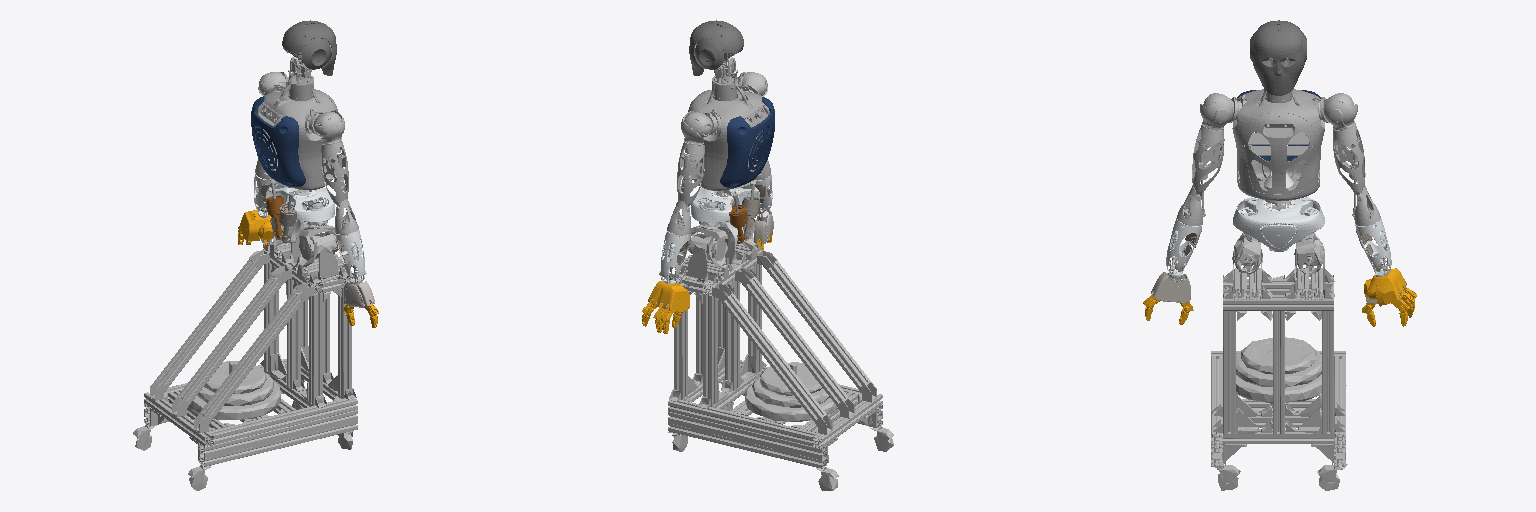
--- Facts derived from the render (not from the file) ---
Views: 3 orthographic renders of the robot side by side, from view 1: azimuth 30°, elevation 25°; view 2: azimuth 150°, elevation 25°; view 3: azimuth 270°, elevation 25°.
Model RH5v2 with 55 links and 54 joints (20 revolute, 34 fixed), rooted at world, posed all joints at 0.
Visible links, largest first — view 1: platform_Link, BodyYaw_Link, RH5v2_Root_Link, HeadYaw_Link, ARShoulder3_Link, HeadBase_Link, ARWristRoll_Link, ARWristFT_Link, ALWristFT_Link, ARElbow_Link, ARShoulder1_Link; view 2: platform_Link, BodyYaw_Link, RH5v2_Root_Link, HeadYaw_Link, ALShoulder3_Link, ALWristFT_Link, HeadBase_Link, ALWristRoll_Link, ALElbow_Link, ALShoulder1_Link; view 3: platform_Link, BodyYaw_Link, RH5v2_Root_Link, HeadYaw_Link, ALShoulder3_Link, ARShoulder3_Link, ALWristFT_Link, ARWristRoll_Link, ALWristRoll_Link, ARWristFT_Link, ALShoulder2_Link, ARShoulder2_Link (+2 smaller).
Boxes of the visible links, bbox=[...] form: platform_Link: bbox=[133, 193, 357, 490]; BodyYaw_Link: bbox=[251, 89, 337, 189]; RH5v2_Root_Link: bbox=[266, 179, 334, 243]; HeadYaw_Link: bbox=[282, 20, 336, 75]; ARShoulder3_Link: bbox=[321, 141, 348, 209]; HeadBase_Link: bbox=[278, 57, 318, 102]; ARWristRoll_Link: bbox=[335, 230, 364, 278]; ARWristFT_Link: bbox=[343, 281, 378, 314]; ALWristFT_Link: bbox=[238, 210, 271, 240]; ARElbow_Link: bbox=[335, 199, 358, 235]; ARShoulder1_Link: bbox=[311, 112, 341, 136]; platform_Link: bbox=[668, 194, 893, 490]; BodyYaw_Link: bbox=[688, 90, 774, 190]; RH5v2_Root_Link: bbox=[691, 180, 759, 243]; HeadYaw_Link: bbox=[689, 20, 743, 75]; ALShoulder3_Link: bbox=[677, 141, 704, 209]; ALWristFT_Link: bbox=[642, 281, 689, 319]; HeadBase_Link: bbox=[707, 58, 748, 103]; ALWristRoll_Link: bbox=[661, 231, 690, 279]; ALElbow_Link: bbox=[667, 200, 690, 236]; ALShoulder1_Link: bbox=[684, 112, 714, 137]; platform_Link: bbox=[1211, 211, 1347, 490]; BodyYaw_Link: bbox=[1232, 89, 1324, 200]; RH5v2_Root_Link: bbox=[1233, 197, 1324, 251]; HeadYaw_Link: bbox=[1250, 20, 1306, 95]; ALShoulder3_Link: bbox=[1333, 123, 1365, 212]; ARShoulder3_Link: bbox=[1192, 124, 1224, 212]; ALWristFT_Link: bbox=[1367, 268, 1415, 309]; ARWristRoll_Link: bbox=[1166, 218, 1202, 271]; ALWristRoll_Link: bbox=[1355, 219, 1391, 271]; ARWristFT_Link: bbox=[1144, 272, 1193, 310]; ALShoulder2_Link: bbox=[1324, 101, 1357, 129]; ARShoulder2_Link: bbox=[1200, 101, 1232, 129].
Size in the robot's own frame: 0.823 by 1.02 by 1.87 metres.
108 mesh visuals loaded from 84 distinct referenced files (83 binary STL); not drawn: 1 (reference not matched to a file when rendering).

The robot description file, URDF, robot "RH5v2":
<?xml version="1.0" ?>
<robot name="RH5v2" version="1.0">
    <link name="world"/>
    <joint name="base_joint" type="fixed">
       <parent link="world"/>
       <child link="RH5v2_Root_Link"/>
       <origin rpy="0 0 0" xyz="0 0 0"/>
    </joint>

	<joint name="ALBase" type="fixed">
		<origin rpy="-6.2e-05 -0.23628 1.309002" xyz="-0.025162 0.126091 0.35059"/>
		<parent link="BodyYaw_Link"/>
		<child link="ALBase_Link"/>
	</joint>
	<link name="ALBase_Link">
		<inertial>
			<origin rpy="0.0 0.0 0.0" xyz="0.0079897 0.0 0.00019625"/>
			<mass value="1.1943"/>
			<inertia ixx="0.00089755" ixy="1.4484e-08" ixz="-2.6127e-07" iyy="0.00057565" iyz="-7.8027e-07" izz="0.00056347"/>
		</inertial>
		<visual name="ALBase_Link_Visual">
			<origin rpy="0.0 0.0 0.0" xyz="0.0 0.0 0.0"/>
			<geometry>
				<mesh filename="../meshes/ALBase_Link.stl"/>
			</geometry>
			<material name="">
				<color rgba="0.75294 0.75294 0.75294 1.0"/>
			</material>
		</visual>
	</link>
	<joint name="ALElbow" type="revolute">
		<origin rpy="0.0 0.0 0.0" xyz="0.0 0.001 0.3511"/>
		<axis xyz="1.0 0.0 0.0"/>
		<parent link="ALShoulder3_Link"/>
		<child link="ALElbow_Link"/>
		<limit effort="110.13" lower="-1.78" upper="0.01" velocity="7.075"/>
	</joint>
	<link name="ALElbow_Link">
		<inertial>
			<origin rpy="0.0 0.0 0.0" xyz="0.0 0.001127 0.080286"/>
			<mass value="0.63578"/>
			<inertia ixx="0.00050999" ixy="2.2297e-07" ixz="4.047e-07" iyy="0.00051633" iyz="-4.4233e-05" izz="0.00046537"/>
		</inertial>
		<visual name="ALElbow_Link_Visual">
			<origin rpy="0.0 0.0 0.0" xyz="0.0 0.0 0.0"/>
			<geometry>
				<mesh filename="../meshes/ALElbow_Link.stl"/>
			</geometry>
			<material name="">
				<color rgba="0.75294 0.75294 0.75294 1.0"/>
			</material>
		</visual>
	</link>
	<joint name="ALShoulder1" type="revolute">
		<origin rpy="3.1416 0.0 0.0" xyz="0.1076 0.0 0.0"/>
		<axis xyz="1.0 0.0 0.0"/>
		<parent link="ALBase_Link"/>
		<child link="ALShoulder1_Link"/>
		<limit effort="157.0" lower="-3.0543" upper="3.0543" velocity="3.6"/>
	</joint>
	<link name="ALShoulder1_Link">
		<inertial>
			<origin rpy="0.0 0.0 0.0" xyz="-0.0091569 0.0036464 -0.00016872"/>
			<mass value="1.602"/>
			<inertia ixx="0.0012117" ixy="-8.0704e-05" ixz="-3.528e-06" iyy="0.0015561" iyz="-2.6511e-06" izz="0.0010024"/>
		</inertial>
		<visual name="ALShoulder1_Link_Visual">
			<origin rpy="0.0 0.0 0.0" xyz="0.0 0.0 0.0"/>
			<geometry>
				<mesh filename="../meshes/ALShoulder1_Link.stl"/>
			</geometry>
			<material name="">
				<color rgba="0.75294 0.75294 0.75294 1.0"/>
			</material>
		</visual>
		<collision name="ALShoulder1_Link_Collision">
			<origin rpy="1.570796 -1.568017 0.0" xyz="-0.005334 -0.004665 -0.002299"/>
			<geometry>
				<sphere radius="0.059044141322374344"/>
			</geometry>
		</collision>
	</link>
	<joint name="ALShoulder2" type="revolute">
		<origin rpy="0.0 0.0 0.0" xyz="0.0 0.0 0.0"/>
		<axis xyz="0.0 1.0 0.0"/>
		<parent link="ALShoulder1_Link"/>
		<child link="ALShoulder2_Link"/>
		<limit effort="157.0" lower="-0.248" upper="1.845" velocity="3.6"/>
	</joint>
	<link name="ALShoulder2_Link">
		<inertial>
			<origin rpy="0.0 0.0 0.0" xyz="0.010763 0.020477 0.0278"/>
			<mass value="0.50849"/>
			<inertia ixx="0.0010465" ixy="0.00012061" ixz="5.4855e-05" iyy="0.00092568" iyz="0.00027501" izz="0.0010393"/>
		</inertial>
		<visual name="ALShoulder2_Link_Visual">
			<origin rpy="0.0 0.0 0.0" xyz="0.0 0.0 0.0"/>
			<geometry>
				<mesh filename="../meshes/ALShoulder2_Link.stl"/>
			</geometry>
			<material name="">
				<color rgba="0.75294 0.75294 0.75294 1.0"/>
			</material>
		</visual>
	</link>
	<joint name="ALShoulder3" type="revolute">
		<origin rpy="0.0 0.0 1.5707" xyz="0.0 0.0 0.0"/>
		<axis xyz="0.0 0.0 1.0"/>
		<parent link="ALShoulder2_Link"/>
		<child link="ALShoulder3_Link"/>
		<limit effort="28.0" lower="-3.0543" upper="3.0543" velocity="5.7"/>
	</joint>
	<link name="ALShoulder3_Link">
		<inertial>
			<origin rpy="0.0 0.0 0.0" xyz="0.0 0.0023269698080689164 0.12573969350370376"/>
			<mass value="1.234064594016641"/>
			<inertia ixx="0.003018389690136292" ixy="5.244535247714018e-07" ixz="-7.893331595881071e-07" iyy="0.0029498729569298384" iyz="8.820081543697286e-05" izz="0.0008757347333427459"/>
		</inertial>
		<visual name="ALShoulder3_Link_Visual">
			<origin rpy="0.0 0.0 0.0" xyz="0.0 0.0 0.0"/>
			<geometry>
				<mesh filename="../meshes/ALShoulder3_Link.stl"/>
			</geometry>
			<material name="">
				<color rgba="0.75294 0.75294 0.75294 1.0"/>
			</material>
		</visual>
		<visual name="ALElbowB11_Link_Visual">
			<origin rpy="-0.25319 0.0 0.0" xyz="0.0 -0.029 0.1391"/>
			<geometry>
				<mesh filename="../meshes/ALElbow_B11_Link.stl"/>
			</geometry>
			<material name="">
				<color rgba="0.75294 0.75294 0.75294 1.0"/>
			</material>
		</visual>
		<visual name="ALElbowAct_Link_Visual">
			<origin rpy="-0.25319 0.0 0.0" xyz="0.0 0.045001 0.425102"/>
			<geometry>
				<mesh filename="../meshes/ALElbow_Act_Link.stl"/>
			</geometry>
			<material name="">
				<color rgba="0.75294 0.75294 0.75294 1.0"/>
			</material>
		</visual>
		<collision name="ALShoulder3_Link_Collision">
			<origin rpy="3.071603 0.037077 0.479525" xyz="0.000897 0.015259 0.247292"/>
			<geometry>
				<cylinder length="0.37510071270897083" radius="0.04989704605643945"/>
			</geometry>
		</collision>
	</link>
	<joint name="ALWristFT" type="fixed">
		<origin rpy="0.0 0.0 1.5708" xyz="0.0 0.0 0.042748"/>
		<parent link="ALWristYaw_Link"/>
		<child link="ALWristFT_Link"/>
	</joint>
	<link name="ALWristFT_Link">
		<inertial>
			<origin rpy="0.0 0.0 0.0" xyz="-0.0021257506868597852 0.0025643917283102577 0.020104290293592838"/>
			<mass value="2.323616875904794"/>
			<inertia ixx="0.0016940457940833257" ixy="5.327619969251473e-05" ixz="3.918511751113743e-06" iyy="0.0009331975295453429" iyz="-2.582742097403667e-05" izz="0.001329614684356007"/>
		</inertial>
		<visual name="ALWristFT_Link_Visual">
			<origin rpy="0.0 0.0 0.0" xyz="0.0 0.0 0.0"/>
			<geometry>
				<mesh filename="../meshes/ALWristFT_Link.stl"/>
			</geometry>
			<material name="">
				<color rgba="0.698039215686274 0.698039215686274 0.698039215686274 1.0"/>
			</material>
		</visual>
		<visual name="GLBase_Visual">
			<origin rpy="-3.141592 0.0 0.0" xyz="0.0 0.0 0.0"/>
			<geometry>
				<mesh filename="../meshes/GripperLeft_BaseFrame.stl" scale="1.0 1.0 1.0"/>
			</geometry>
			<material name="">
				<color rgba="0.94118 0.67451 0.11765 1.0"/>
			</material>
		</visual>
		<visual name="GLF1Base_Visual">
			<origin rpy="1.7921 0.1664 -1.533593" xyz="-0.013458 -0.038971 0.065211"/>
			<geometry>
				<mesh filename="../meshes/Finger_Base_Frame.stl"/>
			</geometry>
			<material name="">
				<color rgba="0.79216 0.81961 0.93333 1.0"/>
			</material>
		</visual>
		<visual name="GLF1ProximalBar_Visual">
			<origin rpy="0.6783 0.1664 -1.533593" xyz="-0.053439 -0.029588 0.079319"/>
			<geometry>
				<mesh filename="../meshes/F_ProximalBar_Frame.stl"/>
			</geometry>
			<material name="">
				<color rgba="0.94118 0.67451 0.11765 1.0"/>
			</material>
		</visual>
		<visual name="GLF2Base_Visual">
			<origin rpy="1.7907 -0.12478 -1.598593" xyz="-0.014454 0.012122 0.06971"/>
			<geometry>
				<mesh filename="../meshes/Finger_Base_Frame.stl"/>
			</geometry>
			<material name="">
				<color rgba="0.79216 0.81961 0.93333 1.0"/>
			</material>
		</visual>
		<visual name="GLF2ProximalBar_Visual">
			<origin rpy="0.6769 -0.12478 -1.598593" xyz="-0.053624 0.02768 0.080161"/>
			<geometry>
				<mesh filename="../meshes/F_ProximalBar_Frame.stl"/>
			</geometry>
			<material name="">
				<color rgba="0.94118 0.67451 0.11765 1.0"/>
			</material>
		</visual>
		<visual name="GLF3Base_Visual">
			<origin rpy="1.7907 -0.124785 -1.598609" xyz="-0.013488 0.046837 0.065354"/>
			<geometry>
				<mesh filename="../meshes/Finger_Base_Frame.stl"/>
			</geometry>
			<material name="">
				<color rgba="0.79216 0.81961 0.93333 1.0"/>
			</material>
		</visual>
		<visual name="GLF3ProximalBar_Visual">
			<origin rpy="0.6769 -0.124785 -1.598609" xyz="-0.052657 0.062395 0.075805"/>
			<geometry>
				<mesh filename="../meshes/F_ProximalBar_Frame.stl"/>
			</geometry>
			<material name="">
				<color rgba="0.94118 0.67451 0.11765 1.0"/>
			</material>
		</visual>
	</link>
	<joint name="ALWristPitch" type="revolute">
		<origin rpy="-3.141592 -1.5707 0.0" xyz="0.173 0.0 0.0"/>
		<axis xyz="1.0 0.0 0.0"/>
		<parent link="ALWristRoll_Link"/>
		<child link="ALWristPitch_Link"/>
		<limit effort="43.135" lower="-0.7" upper="1.57" velocity="9.255"/>
	</joint>
	<link name="ALWristPitch_Link">
		<inertial>
			<origin rpy="0.0 0.0 0.0" xyz="0.0 0.0 0.0"/>
			<mass value="0.0303458029555441"/>
			<inertia ixx="1.0000000011242503e-05" ixy="0.0" ixz="1.3686128944734017e-10" iyy="1.0143779057796202e-05" iyz="1.3756897885334319e-10" izz="1.1666089364158581e-05"/>
		</inertial>
		<visual name="ALWristPitch_Link_Visual">
			<origin rpy="0.0 0.0 0.0" xyz="0.0 0.0 0.0"/>
			<geometry>
				<mesh filename="../meshes/ALWristPitch_Link.stl"/>
			</geometry>
			<material name="">
				<color rgba="0.647058823529412 0.619607843137255 0.588235294117647 1.0"/>
			</material>
		</visual>
	</link>
	<joint name="ALWristRoll" type="revolute">
		<origin rpy="3.1416 -1.5708 0.0" xyz="0.0 0.0 0.122"/>
		<axis xyz="1.0 0.0 0.0"/>
		<parent link="ALElbow_Link"/>
		<child link="ALWristRoll_Link"/>
		<limit effort="28.0" lower="-3.0543" upper="3.0543" velocity="5.7"/>
	</joint>
	<link name="ALWristRoll_Link">
		<inertial>
			<origin rpy="0.0 0.0 0.0" xyz="0.021100858801034905 0.020750070314189212 -0.022279202338594394"/>
			<mass value="0.7033703261930893"/>
			<inertia ixx="0.0005821306127387027" ixy="-2.1540995274711544e-05" ixz="8.844208549962065e-08" iyy="0.0014430712704364768" iyz="-3.4237658176659823e-07" izz="0.0014292089005863153"/>
		</inertial>
		<visual name="ALWristRoot_Link_Visual">
			<origin rpy="-3.141592 -1.5707 0.0" xyz="0.173 0.0 0.0"/>
			<geometry>
				<mesh filename="../meshes/ALWrist_Root_Link.stl"/>
			</geometry>
			<material name="">
				<color rgba="0.64706 0.61961 0.58824 1.0"/>
			</material>
		</visual>
		<visual name="ALWristBL1_Link_Visual">
			<origin rpy="0.259193 -1.5707 0.0" xyz="0.141001 -0.011 0.015503"/>
			<geometry>
				<mesh filename="../meshes/ALWrist_BL1_Link.stl"/>
			</geometry>
			<material name="">
				<color rgba="0.89804 0.91765 0.92941 1.0"/>
			</material>
		</visual>
		<visual name="ALWristBR1_Link_Visual">
			<origin rpy="0.259193 -1.5707 0.0" xyz="0.140999 -0.011 -0.015497"/>
			<geometry>
				<mesh filename="../meshes/ALWrist_BR1_Link.stl"/>
			</geometry>
			<material name="">
				<color rgba="0.89804 0.91765 0.92941 1.0"/>
			</material>
		</visual>
		<visual name="ALWristAL1_Link_Visual">
			<origin rpy="-1.553092 -1.5707 0.0" xyz="-0.004999 0.034 0.015517"/>
			<geometry>
				<mesh filename="../meshes/ALWrist_AL1_Link.stl"/>
			</geometry>
			<material name="">
				<color rgba="0.898039215686275 0.917647058823529 0.929411764705882 1.0"/>
			</material>
		</visual>
		<visual name="ALWristAR1_Link_Visual">
			<origin rpy="-1.553092 -1.5707 0.0" xyz="-0.005002 0.034 -0.015483"/>
			<geometry>
				<mesh filename="../meshes/ALWrist_AR1_Link.stl"/>
			</geometry>
			<material name="">
				<color rgba="0.89804 0.91765 0.92941 1.0"/>
			</material>
		</visual>
		<visual name="ALWristActL_Link_Visual">
			<origin rpy="-3.123892 -1.5707 0.0" xyz="0.12844 0.036363 0.015504"/>
			<geometry>
				<mesh filename="../meshes/ALWrist_ActL_Link.stl"/>
			</geometry>
			<material name="">
				<color rgba="0.77647 0.75686 0.73725 1.0"/>
			</material>
		</visual>
		<visual name="ALWristActR_Link_Visual">
			<origin rpy="-3.123892 -1.5707 0.0" xyz="0.128437 0.036363 -0.015496"/>
			<geometry>
				<mesh filename="../meshes/ALWrist_ActR_Link.stl"/>
			</geometry>
			<material name="">
				<color rgba="0.776470588235294 0.756862745098039 0.737254901960784 1.0"/>
			</material>
		</visual>
		<visual name="ALWristBase_Link_Visual">
			<origin rpy="3.141592 0.0001 0.0" xyz="0.005 0.0 0.0"/>
			<geometry>
				<mesh filename="../meshes/ALWrist_Base_Link.stl"/>
			</geometry>
			<material name="">
				<color rgba="0.898039215686275 0.917647058823529 0.929411764705882 1.0"/>
			</material>
		</visual>
		<collision name="ALWristRoll_Link_Collision">
			<origin rpy="1.529155 1.46726 -1.538407" xyz="0.081951 0.005319 -0.000273"/>
			<geometry>
				<cylinder length="0.19892359808020985" radius="0.051451062143852824"/>
			</geometry>
		</collision>
	</link>
	<joint name="ALWristYaw" type="revolute">
		<origin rpy="0.0 0.0 0.0" xyz="0.0 0.0 0.0"/>
		<axis xyz="0.0 1.0 0.0"/>
		<parent link="ALWristPitch_Link"/>
		<child link="ALWristYaw_Link"/>
		<limit effort="44.635" lower="-0.475" upper="0.585" velocity="7.725"/>
	</joint>
	<link name="ALWristYaw_Link">
		<inertial>
			<origin rpy="0.0 0.0 0.0" xyz="-0.0006783379600145488 -0.004595821715438101 0.013428986627659206"/>
			<mass value="0.10750158088268805"/>
			<inertia ixx="9.569999289025244e-05" ixy="3.991373626540703e-09" ixz="8.851013257069966e-10" iyy="9.189962271073085e-05" iyz="-1.4768282982305257e-06" izz="9.710214057827659e-05"/>
		</inertial>
		<visual name="ALWristYaw_Link_Visual">
			<origin rpy="0.0 0.0 0.0" xyz="0.0 0.0 0.0"/>
			<geometry>
				<mesh filename="../meshes/ALWristYaw_Link.stl"/>
			</geometry>
			<material name="">
				<color rgba="0.898039215686275 0.917647058823529 0.929411764705882 1.0"/>
			</material>
		</visual>
		<visual name="ALWristBL4_Link_Visual">
			<origin rpy="2.9998 0.0 0.0" xyz="0.027 -0.03 0.0"/>
			<geometry>
				<mesh filename="../meshes/ALWrist_BL4_Link.stl"/>
			</geometry>
			<material name="">
				<color rgba="0.776470588235294 0.756862745098039 0.737254901960784 1.0"/>
			</material>
		</visual>
		<visual name="ALWristBR4_Link_Visual">
			<origin rpy="-2.9998 0.0 3.141585" xyz="-0.027 -0.03 0.0"/>
			<geometry>
				<mesh filename="../meshes/ALWrist_BR4_Link.stl"/>
			</geometry>
			<material name="">
				<color rgba="0.647058823529412 0.619607843137255 0.588235294117647 1.0"/>
			</material>
		</visual>
		<visual name="ALWristBL3_Link_Visual">
			<origin rpy="2.999779 0.017082 -0.002439" xyz="0.027 -0.03 0.0"/>
			<geometry>
				<mesh filename="../meshes/ALWrist_BL3_Link.stl"/>
			</geometry>
			<material name="">
				<color rgba="0.898039215686275 0.917647058823529 0.929411764705882 1.0"/>
			</material>
		</visual>
		<visual name="ALWristBR3_Link_Visual">
			<origin rpy="-2.999779 0.017082 -3.139161" xyz="-0.027 -0.03 0.0"/>
			<geometry>
				<mesh filename="../meshes/ALWrist_BR3_Link.stl"/>
			</geometry>
			<material name="">
				<color rgba="0.529411764705882 0.549019607843137 0.549019607843137 1.0"/>
			</material>
		</visual>
		<visual name="ALWristBL2_Link_Visual">
			<origin rpy="2.999779 0.017082 -0.002439" xyz="0.026223 -0.036361 -0.04456"/>
			<geometry>
				<mesh filename="../meshes/ALWrist_BL2_Link.stl"/>
			</geometry>
			<material name="">
				<color rgba="0.647058823529412 0.619607843137255 0.588235294117647 1.0"/>
			</material>
		</visual>
		<visual name="ALWristBR2_Link_Visual">
			<origin rpy="-2.999779 0.017082 -3.139161" xyz="-0.026223 -0.036361 -0.04456"/>
			<geometry>
				<mesh filename="../meshes/ALWrist_BR2_Link.stl"/>
			</geometry>
			<material name="">
				<color rgba="0.647058823529412 0.619607843137255 0.588235294117647 1.0"/>
			</material>
		</visual>
	</link>
	<joint name="ARBase" type="fixed">
		<origin rpy="6e-05 -0.236287 -1.308995" xyz="-0.025162 -0.126089 0.35059"/>
		<parent link="BodyYaw_Link"/>
		<child link="ARBase_Link"/>
	</joint>
	<link name="ARBase_Link">
		<inertial>
			<origin rpy="0.0 0.0 0.0" xyz="0.00799 0.0 0.000196"/>
			<mass value="1.194300000000001"/>
			<inertia ixx="0.00089755" ixy="-1.4484e-08" ixz="-2.6127e-07" iyy="0.00057565" iyz="7.8027e-07" izz="0.00056347"/>
		</inertial>
		<visual name="ARBase_Link_Visual">
			<origin rpy="3.141593 0.0 0.0" xyz="0.0 0.0 0.0"/>
			<geometry>
				<mesh filename="../meshes/ARBase_Link.stl" scale="1.0 1.0 1.0"/>
			</geometry>
			<material name="">
				<color rgba="0.75294 0.75294 0.75294 1.0"/>
			</material>
		</visual>
	</link>
	<joint name="ARElbow" type="revolute">
		<origin rpy="-3.141592 0.0 -3.141592" xyz="0.0 0.001 -0.3511"/>
		<axis xyz="1.0 0.0 0.0"/>
		<parent link="ARShoulder3_Link"/>
		<child link="ARElbow_Link"/>
		<limit effort="110.13" lower="-1.78" upper="0.01" velocity="7.075"/>
	</joint>
	<link name="ARElbow_Link">
		<inertial>
			<origin rpy="0.0 0.0 0.0" xyz="0.0 0.001127 0.080286"/>
			<mass value="0.6357799999999997"/>
			<inertia ixx="0.0005099900001544764" ixy="-2.2297207206594354e-07" ixz="-4.0468474586715554e-07" iyy="0.0005163300270204655" iyz="-4.423298448630883e-05" izz="0.00046536997282505774"/>
		</inertial>
		<visual name="ARElbow_Link_Visual">
			<origin rpy="0.0 0.0 3.141593" xyz="0.0 0.0 0.0"/>
			<geometry>
				<mesh filename="../meshes/ARElbow_Link.stl" scale="1.0 1.0 1.0"/>
			</geometry>
			<material name="">
				<color rgba="0.75294 0.75294 0.75294 1.0"/>
			</material>
		</visual>
	</link>
	<joint name="ARShoulder1" type="revolute">
		<origin rpy="-3.141585 0.0 3.141593" xyz="0.1076 0.0 0.0"/>
		<axis xyz="1.0 0.0 0.0"/>
		<parent link="ARBase_Link"/>
		<child link="ARShoulder1_Link"/>
		<limit effort="157.0" lower="-3.0543" upper="3.0543" velocity="3.6"/>
	</joint>
	<link name="ARShoulder1_Link">
		<inertial>
			<origin rpy="0.0 0.0 0.0" xyz="0.009157 0.003646 -0.000169"/>
			<mass value="1.6019999999999996"/>
			<inertia ixx="0.0012116999440866811" ixy="8.070387961256474e-05" ixz="3.5280257083975037e-06" iyy="0.001556100057542011" iyz="-2.650928692723903e-06" izz="0.0010023999983713062"/>
		</inertial>
		<visual name="ARShoulder1_Link_Visual">
			<origin rpy="0.0 0.0 3.141593" xyz="0.0 0.0 0.0"/>
			<geometry>
				<mesh filename="../meshes/ARShoulder1_Link.stl" scale="1.0 1.0 1.0"/>
			</geometry>
			<material name="">
				<color rgba="0.75294 0.75294 0.75294 1.0"/>
			</material>
		</visual>
		<collision name="ARShoulder1_Link_Collision">
			<origin rpy="1.570864 -1.568017 3.141524" xyz="0.005334 -0.004665 -0.002299"/>
			<geometry>
				<sphere radius="0.059044145081229044"/>
			</geometry>
		</collision>
	</link>
	<joint name="ARShoulder2" type="revolute">
		<origin rpy="0.0 0.0 -3.141592" xyz="0.0 0.0 0.0"/>
		<axis xyz="0.0 1.0 0.0"/>
		<parent link="ARShoulder1_Link"/>
		<child link="ARShoulder2_Link"/>
		<limit effort="157.0" lower="-0.248" upper="1.845" velocity="3.6"/>
	</joint>
	<link name="ARShoulder2_Link">
		<inertial>
			<origin rpy="0.0 0.0 0.0" xyz="0.010763 -0.020477 0.0278"/>
			<mass value="0.5084917431461261"/>
			<inertia ixx="0.0010464999259024192" ixy="-0.00012061005396444852" ixz="5.485487847357631e-05" iyy="0.0009256802430528081" iyz="-0.0002750100517516733" izz="0.0010392998310447714"/>
		</inertial>
		<visual name="ARShoulder2_Link_Visual">
			<origin rpy="0.0 0.0 0.0" xyz="0.0 0.0 0.0"/>
			<geometry>
				<mesh filename="../meshes/ARShoulder2_Link.stl" scale="1.0 1.0 1.0"/>
			</geometry>
			<material name="">
				<color rgba="0.75294 0.75294 0.75294 1.0"/>
			</material>
		</visual>
	</link>
	<joint name="ARShoulder3" type="revolute">
		<origin rpy="-3.141593 1e-06 -1.5707" xyz="0.0 0.0 0.0"/>
		<axis xyz="0.0 0.0 1.0"/>
		<parent link="ARShoulder2_Link"/>
		<child link="ARShoulder3_Link"/>
		<limit effort="28.0" lower="-3.0543" upper="3.0543" velocity="5.7"/>
	</joint>
	<link name="ARShoulder3_Link">
		<inertial>
			<origin rpy="0.0 0.0 0.0" xyz="0.0 0.002327302974746533 -0.07663324824532092"/>
			<mass value="1.2342237960002198"/>
			<inertia ixx="0.00301838969045024" ixy="4.912221472850882e-07" ixz="7.838080878027623e-07" iyy="0.0029500093958173892" iyz="-6.7939016136265e-05" izz="0.0008755982941412455"/>
		</inertial>
		<visual name="ARShoulder3_Link_Visual">
			<origin rpy="3.141593 0.0 0.0" xyz="0.0 0.0 0.0"/>
			<geometry>
				<mesh filename="../meshes/ARShoulder3_Link.stl" scale="1.0 1.0 1.0"/>
			</geometry>
			<material name="">
				<color rgba="0.75294 0.75294 0.75294 1.0"/>
			</material>
		</visual>
		<visual name="ARElbowB11_Link_Visual">
			<origin rpy="2.888403 0.0 -3.141592" xyz="0.0 -0.029 -0.1391"/>
			<geometry>
				<mesh filename="../meshes/ARElbow_B11_Link.stl" scale="1.0 1.0 1.0"/>
			</geometry>
			<material name="">
				<color rgba="0.75294 0.75294 0.75294 1.0"/>
			</material>
		</visual>
		<visual name="ARElbowAct_Link_Visual">
			<origin rpy="2.888403 0.0 3.141592" xyz="0.0 0.045001 -0.425102"/>
			<geometry>
				<mesh filename="../meshes/ARElbow_Act_Link.stl" scale="1.0 1.0 1.0"/>
			</geometry>
			<material name="">
				<color rgba="0.75294 0.75294 0.75294 1.0"/>
			</material>
		</visual>
		<collision name="ARShoulder3_Link_Collision">
			<origin rpy="0.06999 -0.037077 0.479526" xyz="0.000897 0.015259 -0.247292"/>
			<geometry>
				<cylinder length="0.37510067633392874" radius="0.04989704634130358"/>
			</geometry>
		</collision>
	</link>
	<joint name="ARWristFT" type="fixed">
		<origin rpy="0.0 0.0 -1.5708" xyz="0.0 0.0 0.042748"/>
		<parent link="ARWristYaw_Link"/>
		<child link="ARWristFT_Link"/>
	</joint>
	<link name="ARWristFT_Link">
		<inertial>
			<origin rpy="0.0 0.0 0.0" xyz="-0.007384643000911799 -0.007810180244104391 0.022625684875546382"/>
			<mass value="0.6716364094742334"/>
			<inertia ixx="0.0002471607631168521" ixy="-1.2947206607771007e-07" ixz="-7.211116735608899e-07" iyy="0.0004114610354509037" iyz="-3.1627128739890997e-06" izz="0.0003044465748229154"/>
		</inertial>
		<visual name="ARWristFT_Link_Visual">
			<origin rpy="0.0 0.0 3.141593" xyz="0.0 0.0 0.0"/>
			<geometry>
				<mesh filename="../meshes/ARWristFT_Link.stl" scale="1.0 1.0 1.0"/>
			</geometry>
			<material name="">
				<color rgba="0.698039215686274 0.698039215686274 0.698039215686274 1.0"/>
			</material>
		</visual>
		<visual name="GRBase_Visual">
			<origin rpy="0.0 0.0 3.141593" xyz="0.0 0.0 0.0"/>
			<geometry>
				<mesh filename="../meshes/2FGripper_BaseFrame.stl"/>
			</geometry>
			<material name="">
				<color rgba="0.77647 0.75686 0.73725 1.0"/>
			</material>
		</visual>
		<visual name="GRF1Base_Visual">
			<origin rpy="1.789 0.0 1.570793" xyz="0.021725 0.013001 0.064903"/>
			<geometry>
				<mesh filename="../meshes/Finger_Base_Frame.stl"/>
			</geometry>
			<material name="">
				<color rgba="0.79216 0.81961 0.93333 1.0"/>
			</material>
		</visual>
		<visual name="GRF1ProximalBar_Visual">
			<origin rpy="0.6752 0.0 1.570793" xyz="0.061291 0.0 0.07714"/>
			<geometry>
				<mesh filename="../meshes/F_ProximalBar_Frame.stl"/>
			</geometry>
			<material name="">
				<color rgba="0.94118 0.67451 0.11765 1.0"/>
			</material>
		</visual>
		<visual name="GRF2Base_Visual">
			<origin rpy="1.789 0.0 -1.570793" xyz="-0.02175 -0.012996 0.064903"/>
			<geometry>
				<mesh filename="../meshes/Finger_Base_Frame.stl"/>
			</geometry>
			<material name="">
				<color rgba="0.79216 0.81961 0.93333 1.0"/>
			</material>
		</visual>
		<visual name="GRF2ProximalBar_Visual">
			<origin rpy="0.6752 0.0 -1.570793" xyz="-0.061316 0.0 0.07714"/>
			<geometry>
				<mesh filename="../meshes/F_ProximalBar_Frame.stl"/>
			</geometry>
			<material name="">
				<color rgba="0.94118 0.67451 0.11765 1.0"/>
			</material>
		</visual>
	</link>
	<joint name="ARWristPitch" type="revolute">
		<origin rpy="-3.141592 -1.5707 3.141592" xyz="-0.173 0.0 0.0"/>
		<axis xyz="1.0 0.0 0.0"/>
		<parent link="ARWristRoll_Link"/>
		<child link="ARWristPitch_Link"/>
		<limit effort="43.135" lower="-0.7" upper="1.57" velocity="9.255"/>
	</joint>
	<link name="ARWristPitch_Link">
		<inertial>
			<origin rpy="0.0 0.0 0.0" xyz="0.0 0.0 0.0"/>
			<mass value="0.030345802955544107"/>
			<inertia ixx="1.0000000011242505e-05" ixy="0.0" ixz="1.3686128944732079e-10" iyy="1.0143779057796206e-05" iyz="-1.3756897885220354e-10" izz="1.1666089364158585e-05"/>
		</inertial>
		<visual name="ARWristPitch_Link_Visual">
			<origin rpy="0.0 0.0 0.0" xyz="0.0 0.0 0.0"/>
			<geometry>
				<mesh filename="../meshes/ARWristPitch_Link.stl" scale="1.0 1.0 1.0"/>
			</geometry>
			<material name="">
				<color rgba="0.647058823529412 0.619607843137255 0.588235294117647 1.0"/>
			</material>
		</visual>
	</link>
	<joint name="ARWristRoll" type="revolute">
		<origin rpy="0.08344 1.570793 -3.058159" xyz="0.0 0.0 0.122"/>
		<axis xyz="1.0 0.0 0.0"/>
		<parent link="ARElbow_Link"/>
		<child link="ARWristRoll_Link"/>
		<limit effort="28.0" lower="-3.0543" upper="3.0543" velocity="5.7"/>
	</joint>
	<link name="ARWristRoll_Link">
		<inertial>
			<origin rpy="0.0 0.0 0.0" xyz="0.021101834391639287 0.01863898496767983 -0.022279585222716346"/>
			<mass value="0.7033939349158417"/>
			<inertia ixx="0.000591630305461663" ixy="1.7607232597827022e-05" ixz="4.3997628888334523e-07" iyy="0.0014425181855461675" iyz="1.2878607337505122e-06" izz="0.0014202622927536614"/>
		</inertial>
		<visual name="ARWristRoot_Link_Visual">
			<origin rpy="-0.01038 -1.5707 -3.131212" xyz="-0.173 0.0 0.0"/>
			<geometry>
				<mesh filename="../meshes/ARWrist_Root_Link.stl" scale="1.0 1.0 1.0"/>
			</geometry>
			<material name="">
				<color rgba="0.64706 0.61961 0.58824 1.0"/>
			</material>
		</visual>
		<visual name="ARWristBase_Link_Visual">
			<origin rpy="1e-06 0.0001 -3.141592" xyz="-0.005 0.0 0.0"/>
			<geometry>
				<mesh filename="../meshes/ARWrist_Base_Link.stl" scale="1.0 1.0 1.0"/>
			</geometry>
			<material name="">
				<color rgba="0.898039215686275 0.917647058823529 0.929411764705882 1.0"/>
			</material>
		</visual>
		<visual name="ARWristBL1_Link_Visual">
			<origin rpy="0.262788 1.5707 0.003596" xyz="-0.140999 -0.011 -0.015497"/>
			<geometry>
				<mesh filename="../meshes/ARWrist_BR1_Link.stl" scale="1.0 1.0 1.0"/>
			</geometry>
			<material name="">
				<color rgba="0.89804 0.91765 0.92941 1.0"/>
			</material>
		</visual>
		<visual name="ARWristBR1_Link_Visual">
			<origin rpy="0.262788 1.5707 0.003596" xyz="-0.141001 -0.011 0.015503"/>
			<geometry>
				<mesh filename="../meshes/ARWrist_BL1_Link.stl" scale="1.0 1.0 1.0"/>
			</geometry>
			<material name="">
				<color rgba="0.89804 0.91765 0.92941 1.0"/>
			</material>
		</visual>
		<visual name="ARWristAL1_Link_Visual">
			<origin rpy="-1.59202 -1.5707 -3.138073" xyz="0.005001 0.034 -0.015483"/>
			<geometry>
				<mesh filename="../meshes/ARWrist_AR1_Link.stl" scale="1.0 1.0 1.0"/>
			</geometry>
			<material name="">
				<color rgba="0.89804 0.91765 0.92941 1.0"/>
			</material>
		</visual>
		<visual name="ARWristAR1_Link_Visual">
			<origin rpy="-1.59202 -1.5707 -3.138073" xyz="0.004999 0.034 0.015517"/>
			<geometry>
				<mesh filename="../meshes/ARWrist_AL1_Link.stl" scale="1.0 1.0 1.0"/>
			</geometry>
			<material name="">
				<color rgba="0.898039215686275 0.917647058823529 0.929411764705882 1.0"/>
			</material>
		</visual>
		<visual name="ARWristActL_Link_Visual">
			<origin rpy="-3.116778 1.5707 0.007115" xyz="-0.128438 0.036363 -0.015496"/>
			<geometry>
				<mesh filename="../meshes/ARWrist_ActR_Link.stl" scale="1.0 1.0 1.0"/>
			</geometry>
			<material name="">
				<color rgba="0.776470588235294 0.756862745098039 0.737254901960784 1.0"/>
			</material>
		</visual>
		<visual name="ARWristActR_Link_Visual">
			<origin rpy="-3.116778 1.5707 0.007115" xyz="-0.12844 0.036363 0.015504"/>
			<geometry>
				<mesh filename="../meshes/ARWrist_ActL_Link.stl" scale="1.0 1.0 1.0"/>
			</geometry>
			<material name="">
				<color rgba="0.77647 0.75686 0.73725 1.0"/>
			</material>
		</visual>
		<collision name="ARWristRoll_Link_Collision">
			<origin rpy="1.57398 -1.456133 1.499218" xyz="-0.082074 0.004997 0.0"/>
			<geometry>
				<cylinder length="0.19860603208685698" radius="0.05148203817753268"/>
			</geometry>
		</collision>
	</link>
	<joint name="ARWristYaw" type="revolute">
		<origin rpy="0.0 0.0 -1e-06" xyz="0.0 0.0 0.0"/>
		<axis xyz="0.0 1.0 0.0"/>
		<parent link="ARWristPitch_Link"/>
		<child link="ARWristYaw_Link"/>
		<limit effort="44.635" lower="-0.475" upper="0.585" velocity="7.725"/>
	</joint>
	<link name="ARWristYaw_Link">
		<inertial>
			<origin rpy="0.0 0.0 0.0" xyz="0.0002815627050320236 0.004595921950291922 0.013428870722144314"/>
			<mass value="0.10750158918767636"/>
			<inertia ixx="9.569999289069512e-05" ixy="-3.990355623077085e-09" ixz="8.851741228806157e-10" iyy="9.189962270706206e-05" iyz="1.4768283027416586e-06" izz="9.710214058150272e-05"/>
		</inertial>
		<visual name="ARWristYaw_Link_Visual">
			<origin rpy="0.0 0.0 -3.141592" xyz="0.0 0.0 0.0"/>
			<geometry>
				<mesh filename="../meshes/ARWristYaw_Link.stl" scale="1.0 1.0 1.0"/>
			</geometry>
			<material name="">
				<color rgba="0.898039215686275 0.917647058823529 0.929411764705882 1.0"/>
			</material>
		</visual>
		<visual name="ARWristBL4_Link_Visual">
			<origin rpy="-2.9998 0.0 8e-06" xyz="-0.027 0.03 0.0"/>
			<geometry>
				<mesh filename="../meshes/ARWrist_BR4_Link.stl" scale="1.0 1.0 1.0"/>
			</geometry>
			<material name="">
				<color rgba="0.647058823529412 0.619607843137255 0.588235294117647 1.0"/>
			</material>
		</visual>
		<visual name="ARWristBR4_Link_Visual">
			<origin rpy="2.9998 0.0 -3.141592" xyz="0.027 0.03 0.0"/>
			<geometry>
				<mesh filename="../meshes/ARWrist_BL4_Link.stl" scale="1.0 1.0 1.0"/>
			</geometry>
			<material name="">
				<color rgba="0.776470588235294 0.756862745098039 0.737254901960784 1.0"/>
			</material>
		</visual>
		<visual name="ARWristBL3_Link_Visual">
			<origin rpy="-2.999779 -0.017082 -0.002432" xyz="-0.027 0.03 0.0"/>
			<geometry>
				<mesh filename="../meshes/ARWrist_BR3_Link.stl" scale="1.0 1.0 1.0"/>
			</geometry>
			<material name="">
				<color rgba="0.529411764705882 0.549019607843137 0.549019607843137 1.0"/>
			</material>
		</visual>
		<visual name="ARWristBR3_Link_Visual">
			<origin rpy="2.999779 -0.017082 -3.139153" xyz="0.027 0.03 0.0"/>
			<geometry>
				<mesh filename="../meshes/ARWrist_BL3_Link.stl" scale="1.0 1.0 1.0"/>
			</geometry>
			<material name="">
				<color rgba="0.898039215686275 0.917647058823529 0.929411764705882 1.0"/>
			</material>
		</visual>
		<visual name="ARWristBL2_Link_Visual">
			<origin rpy="-2.999779 -0.017082 -0.002432" xyz="-0.026223 0.036361 -0.04456"/>
			<geometry>
				<mesh filename="../meshes/ARWrist_BR2_Link.stl" scale="1.0 1.0 1.0"/>
			</geometry>
			<material name="">
				<color rgba="0.647058823529412 0.619607843137255 0.588235294117647 1.0"/>
			</material>
		</visual>
		<visual name="ARWristBR2_Link_Visual">
			<origin rpy="2.999779 -0.017082 -3.139153" xyz="0.026223 0.036361 -0.04456"/>
			<geometry>
				<mesh filename="../meshes/ARWrist_BL2_Link.stl" scale="1.0 1.0 1.0"/>
			</geometry>
			<material name="">
				<color rgba="0.647058823529412 0.619607843137255 0.588235294117647 1.0"/>
			</material>
		</visual>
	</link>
	<joint name="BodyPitch" type="revolute">
		<origin rpy="0.0 0.0 -4e-06" xyz="0.0 0.0 0.016"/>
		<axis xyz="0.0 1.0 0.0"/>
		<parent link="RH5v2_Root_Link"/>
		<child link="BodyPitch_Link"/>
		<limit effort="400.0" lower="-0.34" upper="0.52" velocity="3.1415926"/>
	</joint>
	<link name="BodyPitch_Link">
		<inertial>
			<origin rpy="0.0 0.0 0.0" xyz="0.0 0.0 0.0"/>
			<mass value="0.076413"/>
			<inertia ixx="1.3771000000001387e-05" ixy="2.1212999999995475e-12" ixz="2.1080999098829268e-12" iyy="1.3770999999998615e-05" iyz="0.0" izz="2.4637e-05"/>
		</inertial>
		<visual name="BodyPitch_Visual">
			<origin rpy="0.0 0.0 -1.570796" xyz="0.0 0.0 0.0"/>
			<geometry>
				<mesh filename="../meshes/BodyPitch.stl"/>
			</geometry>
			<material name="">
				<color rgba="0.89804 0.91765 0.92941 1.0"/>
			</material>
		</visual>
	</link>
	<joint name="BodyRoll" type="revolute">
		<origin rpy="0.0 0.0 0.0" xyz="0.0 0.0 0.0"/>
		<axis xyz="1.0 0.0 0.0"/>
		<parent link="BodyPitch_Link"/>
		<child link="BodyRoll_Link"/>
		<limit effort="400.0" lower="-0.44" upper="0.44" velocity="3.1415926"/>
	</joint>
	<link name="BodyRoll_Link">
		<inertial>
			<origin rpy="0.0 0.0 0.0" xyz="-0.009734 0.0 0.052947"/>
			<mass value="1.4553"/>
			<inertia ixx="0.001065799999518147" ixy="-7.372513070271073e-07" ixz="-6.32019993920274e-06" iyy="0.001000600000481853" iyz="1.8604206540909618e-07" izz="0.0017602"/>
		</inertial>
		<visual name="BodyRoll_Visual">
			<origin rpy="0.0 0.0 -1.570796" xyz="0.0 0.0 0.0"/>
			<geometry>
				<mesh filename="../meshes/BodyRoll.stl"/>
			</geometry>
			<material name="">
				<color rgba="0.89804 0.91765 0.92941 1.0"/>
			</material>
		</visual>
	</link>
	<joint name="BodyYaw" type="revolute">
		<origin rpy="0.0 0.0 0.0" xyz="0.0 0.0 0.0"/>
		<axis xyz="0.0 0.0 1.0"/>
		<parent link="BodyRoll_Link"/>
		<child link="BodyYaw_Link"/>
		<limit effort="157.0" lower="-3.0543" upper="3.0543" velocity="3.6"/>
	</joint>
	<link name="BodyYaw_Link">
		<inertial>
			<origin rpy="0.0 0.0 0.0" xyz="0.17761476789572922 0.004321655486563976 -0.008277657539023625"/>
			<mass value="9.624353096261528"/>
			<inertia ixx="0.23093456009646005" ixy="-4.4100097288588015e-05" ixz="0.0055615026589329155" iyy="0.16174159908651825" iyz="-0.0001812479769965654" izz="0.13955083529859266"/>
		</inertial>
		<visual name="BodyYaw_Visual">
			<origin rpy="0.0 0.0 -1.570796" xyz="0.0 0.0 0.0"/>
			<geometry>
				<mesh filename="../meshes/BodyYaw.stl"/>
			</geometry>
			<material name="">
				<color rgba="0.89804 0.91765 0.92941 1.0"/>
			</material>
		</visual>
		<visual name="base_link_torso_Visual">
			<origin rpy="1.5708 -1.570793 1.570796" xyz="0.0 0.0 0.0525"/>
			<geometry>
				<mesh filename="../meshes/base_link_torso.stl"/>
			</geometry>
			<material name="">
				<color rgba="0.698039215686274 0.698039215686274 0.698039215686274 1.0"/>
			</material>
		</visual>
		<visual name="Connector_Torso/Head_Visual">
			<origin rpy="1.5708 -1.570793 1.570796" xyz="0.0 0.0 0.401"/>
			<geometry>
				<mesh filename="../meshes/Connector_Torso_Head.stl"/>
			</geometry>
			<material name="">
				<color rgba="0.69804 0.69804 0.69804 1.0"/>
			</material>
		</visual>
		<visual name="Connector_Torso/ArmRight_Visual">
			<origin rpy="6e-05 -0.236287 -1.308995" xyz="-0.025162 -0.126089 0.35059"/>
			<geometry>
				<mesh filename="../meshes/Connector_Torso_ArmRight.stl"/>
			</geometry>
			<material name="">
				<color rgba="0.69804 0.69804 0.69804 1.0"/>
			</material>
		</visual>
		<visual name="Connector_Torso/ArmLeft_Visual">
			<origin rpy="-6.2e-05 -0.23628 1.309002" xyz="-0.025162 0.126091 0.35059"/>
			<geometry>
				<mesh filename="../meshes/Connector_Torso_ArmLeft.stl"/>
			</geometry>
			<material name="">
				<color rgba="0.69804 0.69804 0.69804 1.0"/>
			</material>
		</visual>
		<visual name="Connector_Torso/Backpack_Visual">
			<origin rpy="3e-06 3e-06 -3.14159" xyz="-0.139 0.135001 0.354"/>
			<geometry>
				<mesh filename="../meshes/Connector_Torso_Backpack.stl"/>
			</geometry>
			<material name="">
				<color rgba="0.20784 0.30196 0.45098 1.0"/>
			</material>
		</visual>
		<collision name="BodyYaw_Link_Collision">
			<origin rpy="0.0 0.0 0.0" xyz="0.0 0.0 0.0"/>
			<geometry>
				<mesh filename="../meshes/BodyYaw_Link_abstract-urdf_joined_convexhull.obj" scale="1.0 1.0 1.0"/>
			</geometry>
		</collision>
	</link>
	<joint name="CameraHeadLeftEye" type="fixed">
		<origin rpy="0.0 0.0 0.0" xyz="0.02 0.0 0.0"/>
		<parent link="Stereo_Camera_Head_Link"/>
		<child link="CameraHeadLeftEye_Link"/>
	</joint>
	<link name="CameraHeadLeftEye_Link"/>
	<joint name="CameraTorso" type="fixed">
		<origin rpy="0.0 0.0 0.0" xyz="0.0 0.0 0.0"/>
		<parent link="Structure_Sensor_Link"/>
		<child link="CameraTorso_Link"/>
	</joint>
	<link name="CameraTorso_Link"/>
	<joint name="GLF1Gear" type="fixed">
		<origin rpy="1.2885 0.0 0.0" xyz="0.0 0.0 0.053"/>
		<axis xyz="-1.0 0.0 0.0"/>
		<parent link="GLF1ProximalSegment_Link"/>
		<child link="GLF1Gear_Link"/>
		<limit effort="400.0" lower="-3.1415926" upper="3.1415926" velocity="3.1415926"/>
		<mimic joint="GLF1ProximalSegment" multiplier="-1.0" offset="0.0"/>
	</joint>
	<link name="GLF1Gear_Link">
		<inertial>
			<origin rpy="0.0 0.0 0.0" xyz="0.00042134 0.00032509 0.0086803"/>
			<mass value="0.024785"/>
			<inertia ixx="1.1031768852531896e-05" ixy="-3.314199999999995e-09" ixz="-1.3220000000000009e-08" iyy="1.04518688525319e-05" iyz="-1.0513000000000047e-07" izz="1.0024648852531899e-05"/>
		</inertial>
		<visual name="GLF1Gear_Visual">
			<origin rpy="0.0 0.0 0.0" xyz="0.0 0.0 0.0"/>
			<geometry>
				<mesh filename="../meshes/F_Gear_Frame.stl"/>
			</geometry>
			<material name="">
				<color rgba="0.94118 0.67451 0.11765 1.0"/>
			</material>
		</visual>
	</link>
	<joint name="GLF1ProximalSegment" type="fixed">
		<origin rpy="0.6664 0.1664 -1.533593" xyz="-0.031453 -0.028781 0.079387"/>
		<axis xyz="-1.0 0.0 0.0"/>
		<parent link="ALWristFT_Link"/>
		<child link="GLF1ProximalSegment_Link"/>
		<limit effort="400.0" lower="-0.03490658503988659" upper="2.844886680750757" velocity="3.1415926"/>
	</joint>
	<link name="GLF1ProximalSegment_Link">
		<inertial>
			<origin rpy="0.0 0.0 0.0" xyz="-0.0020799169088264002 0.0003869287332191591 0.021596022319208884"/>
			<mass value="0.054303017004370104"/>
			<inertia ixx="3.088548027794202e-05" ixy="-1.4302000000000137e-08" ixz="-2.683200000000028e-07" iyy="3.374948027794203e-05" iyz="6.182299999999967e-07" izz="2.0034380277942035e-05"/>
		</inertial>
		<visual name="GLF1ProximalSegment_Visual">
			<origin rpy="0.0 0.0 0.0" xyz="0.0 0.0 0.0"/>
			<geometry>
				<mesh filename="../meshes/F_ProximalSegment_Frame.stl"/>
			</geometry>
			<material name="">
				<color rgba="0.94118 0.67451 0.11765 1.0"/>
			</material>
		</visual>
		<collision name="GLF1ProximalSegment_Collision">
			<origin rpy="0.000111 0.075418 -1.569794" xyz="0.00013 -0.002054 0.02649"/>
			<geometry>
				<box size="0.030218173173127905 0.034882865322953094 0.0747403673565936"/>
			</geometry>
		</collision>
	</link>
	<joint name="GLF1TopSegment" type="fixed">
		<origin rpy="0.0 0.0 0.0" xyz="0.0 0.0 0.0"/>
		<axis xyz="-1.0 0.0 0.0"/>
		<parent link="GLF1Gear_Link"/>
		<child link="GLF1TopSegment_Link"/>
		<limit effort="400.0" lower="-3.1415926" upper="3.1415926" velocity="3.1415926"/>
	</joint>
	<link name="GLF1TopSegment_Link">
		<inertial>
			<origin rpy="0.0 0.0 0.0" xyz="0.0009346754545048612 0.02600300827216842 -0.013271286346101328"/>
			<mass value="0.04958915985083422"/>
			<inertia ixx="5.1651277429850974e-05" ixy="4.4296000000000057e-07" ixz="-6.034000000000103e-08" iyy="5.0300577429850974e-05" iyz="7.458099999999999e-07" izz="5.3196877429850975e-05"/>
		</inertial>
		<visual name="GLF1TopSegment_Visual">
			<origin rpy="0.0 0.0 0.0" xyz="0.0 0.0 0.0"/>
			<geometry>
				<mesh filename="../meshes/F_TopSegment_Frame.stl"/>
			</geometry>
			<material name="">
				<color rgba="0.94118 0.67451 0.11765 1.0"/>
			</material>
		</visual>
		<collision name="GLF1TopSegment_Collision">
			<origin rpy="3.025162 1.145167 -1.622776" xyz="0.0 0.02387 -0.012657"/>
			<geometry>
				<box size="0.026310870976772916 0.02858935493300371 0.07745781389552309"/>
			</geometry>
		</collision>
	</link>
	<joint name="GLF2Gear" type="fixed">
		<origin rpy="1.2885 0.0 0.0" xyz="0.0 0.0 0.053"/>
		<axis xyz="-1.0 0.0 0.0"/>
		<parent link="GLF2ProximalSegment_Link"/>
		<child link="GLF2Gear_Link"/>
		<limit effort="400.0" lower="-3.1415926" upper="3.1415926" velocity="3.1415926"/>
		<mimic joint="GLF2ProximalSegment" multiplier="-1.0" offset="0.0"/>
	</joint>
	<link name="GLF2Gear_Link">
		<inertial>
			<origin rpy="0.0 0.0 0.0" xyz="0.00042134 0.00032509 0.0086803"/>
			<mass value="0.024785"/>
			<inertia ixx="1.1031768852531896e-05" ixy="-3.314199999999995e-09" ixz="-1.3220000000000009e-08" iyy="1.04518688525319e-05" iyz="-1.0513000000000047e-07" izz="1.0024648852531899e-05"/>
		</inertial>
		<visual name="GLF2Gear_Visual">
			<origin rpy="0.0 0.0 0.0" xyz="0.0 0.0 0.0"/>
			<geometry>
				<mesh filename="../meshes/F_Gear_Frame.stl"/>
			</geometry>
			<material name="">
				<color rgba="0.94118 0.67451 0.11765 1.0"/>
			</material>
		</visual>
	</link>
	<joint name="GLF2ProximalSegment" type="fixed">
		<origin rpy="0.665 -0.12478 -1.598593" xyz="-0.031632 0.027073 0.080199"/>
		<axis xyz="-1.0 0.0 0.0"/>
		<parent link="ALWristFT_Link"/>
		<child link="GLF2ProximalSegment_Link"/>
		<limit effort="400.0" lower="-0.03490658503988659" upper="2.844886680750757" velocity="3.1415926"/>
	</joint>
	<link name="GLF2ProximalSegment_Link">
		<inertial>
			<origin rpy="0.0 0.0 0.0" xyz="-0.0020799169088264002 0.0003869287332191591 0.021596022319208884"/>
			<mass value="0.054303017004370104"/>
			<inertia ixx="3.088548027794202e-05" ixy="-1.4302000000000137e-08" ixz="-2.683200000000028e-07" iyy="3.374948027794203e-05" iyz="6.182299999999967e-07" izz="2.0034380277942035e-05"/>
		</inertial>
		<visual name="GLF2ProximalSegment_Visual">
			<origin rpy="0.0 0.0 0.0" xyz="0.0 0.0 0.0"/>
			<geometry>
				<mesh filename="../meshes/F_ProximalSegment_Frame.stl"/>
			</geometry>
			<material name="">
				<color rgba="0.94118 0.67451 0.11765 1.0"/>
			</material>
		</visual>
		<collision name="GLF2ProximalSegment_Collision">
			<origin rpy="0.000111 0.075418 -1.569794" xyz="0.00013 -0.002054 0.02649"/>
			<geometry>
				<box size="0.030218173173127905 0.034882865322953094 0.0747403673565936"/>
			</geometry>
		</collision>
	</link>
	<joint name="GLF2TopSegment" type="fixed">
		<origin rpy="0.0 0.0 0.0" xyz="0.0 0.0 0.0"/>
		<axis xyz="-1.0 0.0 0.0"/>
		<parent link="GLF2Gear_Link"/>
		<child link="GLF2TopSegment_Link"/>
		<limit effort="400.0" lower="-3.1415926" upper="3.1415926" velocity="3.1415926"/>
	</joint>
	<link name="GLF2TopSegment_Link">
		<inertial>
			<origin rpy="0.0 0.0 0.0" xyz="0.0009346754545048612 0.02600300827216842 -0.013271286346101328"/>
			<mass value="0.04958915985083422"/>
			<inertia ixx="5.1651277429850974e-05" ixy="4.4296000000000057e-07" ixz="-6.034000000000103e-08" iyy="5.0300577429850974e-05" iyz="7.458099999999999e-07" izz="5.3196877429850975e-05"/>
		</inertial>
		<visual name="GLF2TopSegment_Visual">
			<origin rpy="0.0 0.0 0.0" xyz="0.0 0.0 0.0"/>
			<geometry>
				<mesh filename="../meshes/F_TopSegment_Frame.stl"/>
			</geometry>
			<material name="">
				<color rgba="0.94118 0.67451 0.11765 1.0"/>
			</material>
		</visual>
		<collision name="GLF2TopSegment_Collision">
			<origin rpy="3.025162 1.145167 -1.622776" xyz="0.0 0.02387 -0.012657"/>
			<geometry>
				<box size="0.026310870976772916 0.02858935493300371 0.07745781389552309"/>
			</geometry>
		</collision>
	</link>
	<joint name="GLF3Gear" type="fixed">
		<origin rpy="1.2885 0.0 0.0" xyz="0.0 0.0 0.053"/>
		<axis xyz="-1.0 0.0 0.0"/>
		<parent link="GLF3ProximalSegment_Link"/>
		<child link="GLF3Gear_Link"/>
		<limit effort="400.0" lower="-3.1415926" upper="3.1415926" velocity="3.1415926"/>
		<mimic joint="GLF3ProximalSegment" multiplier="-1.0" offset="0.0"/>
	</joint>
	<link name="GLF3Gear_Link">
		<inertial>
			<origin rpy="0.0 0.0 0.0" xyz="0.00042134 0.00032509 0.0086803"/>
			<mass value="0.024785"/>
			<inertia ixx="1.1031768852531896e-05" ixy="-3.314199999999995e-09" ixz="-1.3220000000000009e-08" iyy="1.04518688525319e-05" iyz="-1.0513000000000047e-07" izz="1.0024648852531899e-05"/>
		</inertial>
		<visual name="GLF3Gear_Visual">
			<origin rpy="0.0 0.0 0.0" xyz="0.0 0.0 0.0"/>
			<geometry>
				<mesh filename="../meshes/F_Gear_Frame.stl"/>
			</geometry>
			<material name="">
				<color rgba="0.94118 0.67451 0.11765 1.0"/>
			</material>
		</visual>
	</link>
	<joint name="GLF3ProximalSegment" type="fixed">
		<origin rpy="0.665 -0.124785 -1.598609" xyz="-0.030665 0.061788 0.075843"/>
		<axis xyz="-1.0 0.0 0.0"/>
		<parent link="ALWristFT_Link"/>
		<child link="GLF3ProximalSegment_Link"/>
		<limit effort="400.0" lower="-0.03490658503988659" upper="2.844886680750757" velocity="3.1415926"/>
	</joint>
	<link name="GLF3ProximalSegment_Link">
		<inertial>
			<origin rpy="0.0 0.0 0.0" xyz="-0.0020799169088264002 0.0003869287332191591 0.021596022319208884"/>
			<mass value="0.054303017004370104"/>
			<inertia ixx="3.088548027794202e-05" ixy="-1.4302000000000137e-08" ixz="-2.683200000000028e-07" iyy="3.374948027794203e-05" iyz="6.182299999999967e-07" izz="2.0034380277942035e-05"/>
		</inertial>
		<visual name="GLF3ProximalSegment_Visual">
			<origin rpy="0.0 0.0 0.0" xyz="0.0 0.0 0.0"/>
			<geometry>
				<mesh filename="../meshes/F_ProximalSegment_Frame.stl"/>
			</geometry>
			<material name="">
				<color rgba="0.94118 0.67451 0.11765 1.0"/>
			</material>
		</visual>
		<collision name="GLF3ProximalSegment_Collision">
			<origin rpy="0.000111 0.075418 -1.569794" xyz="0.00013 -0.002054 0.02649"/>
			<geometry>
				<box size="0.030218173173127905 0.034882865322953094 0.0747403673565936"/>
			</geometry>
		</collision>
	</link>
	<joint name="GLF3TopSegment" type="fixed">
		<origin rpy="0.0 0.0 0.0" xyz="0.0 0.0 0.0"/>
		<axis xyz="-1.0 0.0 0.0"/>
		<parent link="GLF3Gear_Link"/>
		<child link="GLF3TopSegment_Link"/>
		<limit effort="400.0" lower="-3.1415926" upper="3.1415926" velocity="3.1415926"/>
	</joint>
	<link name="GLF3TopSegment_Link">
		<inertial>
			<origin rpy="0.0 0.0 0.0" xyz="0.0009346754545048612 0.02600300827216842 -0.013271286346101328"/>
			<mass value="0.04958915985083422"/>
			<inertia ixx="5.1651277429850974e-05" ixy="4.4296000000000057e-07" ixz="-6.034000000000103e-08" iyy="5.0300577429850974e-05" iyz="7.458099999999999e-07" izz="5.3196877429850975e-05"/>
		</inertial>
		<visual name="GLF3TopSegment_Visual">
			<origin rpy="0.0 0.0 0.0" xyz="0.0 0.0 0.0"/>
			<geometry>
				<mesh filename="../meshes/F_TopSegment_Frame.stl"/>
			</geometry>
			<material name="">
				<color rgba="0.94118 0.67451 0.11765 1.0"/>
			</material>
		</visual>
		<collision name="GLF3TopSegment_Collision">
			<origin rpy="3.025162 1.145167 -1.622776" xyz="0.0 0.02387 -0.012657"/>
			<geometry>
				<box size="0.026310870976772916 0.02858935493300371 0.07745781389552309"/>
			</geometry>
		</collision>
	</link>
	<joint name="GLF4Gear" type="fixed">
		<origin rpy="1.2885 0.0 0.0" xyz="0.0 0.0 0.053"/>
		<axis xyz="-1.0 0.0 0.0"/>
		<parent link="GLF4ProximalSegment_Link"/>
		<child link="GLF4Gear_Link"/>
		<limit effort="400.0" lower="-3.1415926" upper="3.1415926" velocity="3.1415926"/>
		<mimic joint="GLF4ProximalSegment" multiplier="-1.0" offset="0.0"/>
	</joint>
	<link name="GLF4Gear_Link">
		<inertial>
			<origin rpy="0.0 0.0 0.0" xyz="0.00042134 0.00032509 0.0086803"/>
			<mass value="0.024785"/>
			<inertia ixx="1.1031768852531896e-05" ixy="-3.314199999999995e-09" ixz="-1.3220000000000009e-08" iyy="1.04518688525319e-05" iyz="-1.0513000000000047e-07" izz="1.0024648852531899e-05"/>
		</inertial>
		<visual name="GLF4Gear_Visual">
			<origin rpy="0.0 0.0 0.0" xyz="0.0 0.0 0.0"/>
			<geometry>
				<mesh filename="../meshes/F_Gear_Frame.stl"/>
			</geometry>
			<material name="">
				<color rgba="0.94118 0.67451 0.11765 1.0"/>
			</material>
		</visual>
	</link>
	<joint name="GLF4ProximalSegment" type="fixed">
		<origin rpy="0.6633 0.0 -1.570801" xyz="-0.029562 0.0 0.04035"/>
		<axis xyz="-1.0 0.0 0.0"/>
		<parent link="GLThumb_Link"/>
		<child link="GLF4ProximalSegment_Link"/>
		<limit effort="400.0" lower="-0.03490658503988659" upper="2.844886680750757" velocity="3.1415926"/>
	</joint>
	<link name="GLF4ProximalSegment_Link">
		<inertial>
			<origin rpy="0.0 0.0 0.0" xyz="-0.0020799169088264002 0.0003869287332191591 0.021596022319208884"/>
			<mass value="0.054303017004370104"/>
			<inertia ixx="3.088548027794202e-05" ixy="-1.4302000000000137e-08" ixz="-2.683200000000028e-07" iyy="3.374948027794203e-05" iyz="6.182299999999967e-07" izz="2.0034380277942035e-05"/>
		</inertial>
		<visual name="GLF4ProximalSegment_Visual">
			<origin rpy="0.0 0.0 0.0" xyz="0.0 0.0 0.0"/>
			<geometry>
				<mesh filename="../meshes/F_ProximalSegment_Frame.stl"/>
			</geometry>
			<material name="">
				<color rgba="0.94118 0.67451 0.11765 1.0"/>
			</material>
		</visual>
		<collision name="GLF4ProximalSegment_Collision">
			<origin rpy="0.000111 0.075418 -1.569794" xyz="0.00013 -0.002054 0.02649"/>
			<geometry>
				<box size="0.030218173173127905 0.034882865322953094 0.0747403673565936"/>
			</geometry>
		</collision>
	</link>
	<joint name="GLF4TopSegment" type="fixed">
		<origin rpy="0.0 0.0 0.0" xyz="0.0 0.0 0.0"/>
		<axis xyz="-1.0 0.0 0.0"/>
		<parent link="GLF4Gear_Link"/>
		<child link="GLF4TopSegment_Link"/>
		<limit effort="400.0" lower="-3.1415926" upper="3.1415926" velocity="3.1415926"/>
	</joint>
	<link name="GLF4TopSegment_Link">
		<inertial>
			<origin rpy="0.0 0.0 0.0" xyz="0.0009346754545048612 0.02600300827216842 -0.013271286346101328"/>
			<mass value="0.04958915985083422"/>
			<inertia ixx="5.1651277429850974e-05" ixy="4.4296000000000057e-07" ixz="-6.034000000000103e-08" iyy="5.0300577429850974e-05" iyz="7.458099999999999e-07" izz="5.3196877429850975e-05"/>
		</inertial>
		<visual name="GLF4TopSegment_Visual">
			<origin rpy="0.0 0.0 0.0" xyz="0.0 0.0 0.0"/>
			<geometry>
				<mesh filename="../meshes/F_TopSegment_Frame.stl"/>
			</geometry>
			<material name="">
				<color rgba="0.94118 0.67451 0.11765 1.0"/>
			</material>
		</visual>
		<collision name="GLF4TopSegment_Collision">
			<origin rpy="3.025162 1.145167 -1.622776" xyz="0.0 0.02387 -0.012657"/>
			<geometry>
				<box size="0.026310870976772916 0.02858935493300371 0.07745781389552309"/>
			</geometry>
		</collision>
	</link>
	<joint name="GLIMU" type="fixed">
		<origin rpy="0.0 1.3526 0.0" xyz="-0.003256 0.00202 0.053849"/>
		<parent link="ALWristFT_Link"/>
		<child link="GLIMU_Link"/>
	</joint>
	<link name="GLIMU_Link">
		<inertial>
			<origin rpy="0.0 0.0 0.0" xyz="0.0 0.0 0.0"/>
			<mass value="0.0"/>
			<inertia ixx="1e-05" ixy="0.0" ixz="0.0" iyy="1e-05" iyz="0.0" izz="1e-05"/>
		</inertial>
	</link>
	<joint name="GLThumb" type="fixed">
		<origin rpy="0.0 0.0 -3.141592" xyz="0.019161 -0.002327 0.042"/>
		<axis xyz="-1.0 0.0 0.0"/>
		<parent link="ALWristFT_Link"/>
		<child link="GLThumb_Link"/>
		<limit effort="400.0" lower="-0.2617993877991494" upper="1.064650843716541" velocity="3.1415926"/>
	</joint>
	<link name="GLThumb_Link">
		<inertial>
			<origin rpy="0.0 0.0 0.0" xyz="-0.012646064590810985 -0.008105798415063866 0.014724299589204017"/>
			<mass value="0.3647561825882988"/>
			<inertia ixx="0.00017196947154162604" ixy="-1.2849830058509908e-06" ixz="-6.455817419732357e-07" iyy="0.00015617393364816254" iyz="-1.2623201197509347e-06" izz="0.000152835229404215"/>
		</inertial>
		<visual name="GLThumb_Visual">
			<origin rpy="0.0 0.0 3.141593" xyz="0.0 0.0 0.0"/>
			<geometry>
				<mesh filename="../meshes/GL_Thumb.stl" scale="1.0 1.0 1.0"/>
			</geometry>
			<material name="">
				<color rgba="0.94118 0.67451 0.11765 1.0"/>
			</material>
		</visual>
		<visual name="GLF4Base_Visual">
			<origin rpy="1.789 0.0 -1.570801" xyz="-0.011996 -0.013 0.028112"/>
			<geometry>
				<mesh filename="../meshes/Finger_Base_Frame.stl"/>
			</geometry>
			<material name="">
				<color rgba="0.79216 0.81961 0.93333 1.0"/>
			</material>
		</visual>
		<visual name="GLF4ProximalBar_Visual">
			<origin rpy="0.6752 0.0 -1.570801" xyz="-0.051562 0.0 0.040349"/>
			<geometry>
				<mesh filename="../meshes/F_ProximalBar_Frame.stl"/>
			</geometry>
			<material name="">
				<color rgba="0.94118 0.67451 0.11765 1.0"/>
			</material>
		</visual>
	</link>
	<joint name="GRF1Gear" type="fixed">
		<origin rpy="1.2885 0.0 0.0" xyz="0.0 0.0 0.053"/>
		<axis xyz="-1.0 0.0 0.0"/>
		<parent link="GRF1ProximalSegment_Link"/>
		<child link="GRF1Gear_Link"/>
		<limit effort="400.0" lower="-3.1415926" upper="3.1415926" velocity="3.1415926"/>
		<mimic joint="GRF1ProximalSegment" multiplier="-1.0" offset="0.0"/>
	</joint>
	<link name="GRF1Gear_Link">
		<inertial>
			<origin rpy="0.0 0.0 0.0" xyz="0.00042134 0.00032509 0.0086803"/>
			<mass value="0.024785"/>
			<inertia ixx="1.1031768852531896e-05" ixy="-3.314199999999995e-09" ixz="-1.3220000000000009e-08" iyy="1.04518688525319e-05" iyz="-1.0513000000000047e-07" izz="1.0024648852531899e-05"/>
		</inertial>
		<visual name="GRF1Gear_Visual">
			<origin rpy="0.0 0.0 0.0" xyz="0.0 0.0 0.0"/>
			<geometry>
				<mesh filename="../meshes/F_Gear_Frame.stl"/>
			</geometry>
			<material name="">
				<color rgba="0.94118 0.67451 0.11765 1.0"/>
			</material>
		</visual>
	</link>
	<joint name="GRF1ProximalSegment" type="fixed">
		<origin rpy="0.6633 0.0 1.570793" xyz="0.039291 0.0 0.077141"/>
		<axis xyz="-1.0 0.0 0.0"/>
		<parent link="ARWristFT_Link"/>
		<child link="GRF1ProximalSegment_Link"/>
		<limit effort="400.0" lower="-0.05235987755982988" upper="0.7330382858376184" velocity="3.1415926"/>
	</joint>
	<link name="GRF1ProximalSegment_Link">
		<inertial>
			<origin rpy="0.0 0.0 0.0" xyz="-0.0020799169088264002 0.0003869287332191591 0.021596022319208884"/>
			<mass value="0.054303017004370104"/>
			<inertia ixx="3.088548027794202e-05" ixy="-1.4302000000000137e-08" ixz="-2.683200000000028e-07" iyy="3.374948027794203e-05" iyz="6.182299999999967e-07" izz="2.0034380277942035e-05"/>
		</inertial>
		<visual name="GRF1ProximalSegment_Visual">
			<origin rpy="0.0 0.0 0.0" xyz="0.0 0.0 0.0"/>
			<geometry>
				<mesh filename="../meshes/F_ProximalSegment_Frame.stl"/>
			</geometry>
			<material name="">
				<color rgba="0.94118 0.67451 0.11765 1.0"/>
			</material>
		</visual>
		<collision name="GRF1ProximalSegment_Collision">
			<origin rpy="0.000111 0.075418 -1.569794" xyz="0.00013 -0.002054 0.02649"/>
			<geometry>
				<box size="0.030218173173127905 0.034882865322953094 0.0747403673565936"/>
			</geometry>
		</collision>
	</link>
	<joint name="GRF1TopSegment" type="fixed">
		<origin rpy="0.0 0.0 0.0" xyz="0.0 0.0 0.0"/>
		<axis xyz="-1.0 0.0 0.0"/>
		<parent link="GRF1Gear_Link"/>
		<child link="GRF1TopSegment_Link"/>
		<limit effort="400.0" lower="-3.1415926" upper="3.1415926" velocity="3.1415926"/>
	</joint>
	<link name="GRF1TopSegment_Link">
		<inertial>
			<origin rpy="0.0 0.0 0.0" xyz="0.0009346754545048612 0.02600300827216842 -0.013271286346101328"/>
			<mass value="0.04958915985083422"/>
			<inertia ixx="5.1651277429850974e-05" ixy="4.4296000000000057e-07" ixz="-6.034000000000103e-08" iyy="5.0300577429850974e-05" iyz="7.458099999999999e-07" izz="5.3196877429850975e-05"/>
		</inertial>
		<visual name="GRF1TopSegment_Visual">
			<origin rpy="0.0 0.0 0.0" xyz="0.0 0.0 0.0"/>
			<geometry>
				<mesh filename="../meshes/F_TopSegment_Frame.stl"/>
			</geometry>
			<material name="">
				<color rgba="0.94118 0.67451 0.11765 1.0"/>
			</material>
		</visual>
		<collision name="GRF1TopSegment_Collision">
			<origin rpy="3.025162 1.145167 -1.622776" xyz="0.0 0.02387 -0.012657"/>
			<geometry>
				<box size="0.026310870976772916 0.02858935493300371 0.07745781389552309"/>
			</geometry>
		</collision>
	</link>
	<joint name="GRF2Gear" type="fixed">
		<origin rpy="1.2885 0.0 0.0" xyz="0.0 0.0 0.053"/>
		<axis xyz="-1.0 0.0 0.0"/>
		<parent link="GRF2ProximalSegment_Link"/>
		<child link="GRF2Gear_Link"/>
		<limit effort="400.0" lower="-3.1415926" upper="3.1415926" velocity="3.1415926"/>
		<mimic joint="GRF2ProximalSegment" multiplier="-1.0" offset="0.0"/>
	</joint>
	<link name="GRF2Gear_Link">
		<inertial>
			<origin rpy="0.0 0.0 0.0" xyz="0.00042134 0.00032509 0.0086803"/>
			<mass value="0.024785"/>
			<inertia ixx="1.1031768852531896e-05" ixy="-3.314199999999995e-09" ixz="-1.3220000000000009e-08" iyy="1.04518688525319e-05" iyz="-1.0513000000000047e-07" izz="1.0024648852531899e-05"/>
		</inertial>
		<visual name="GRF2Gear_Visual">
			<origin rpy="0.0 0.0 0.0" xyz="0.0 0.0 0.0"/>
			<geometry>
				<mesh filename="../meshes/F_Gear_Frame.stl"/>
			</geometry>
			<material name="">
				<color rgba="0.94118 0.67451 0.11765 1.0"/>
			</material>
		</visual>
	</link>
	<joint name="GRF2ProximalSegment" type="fixed">
		<origin rpy="0.6633 0.0 -1.570793" xyz="-0.039316 0.0 0.077141"/>
		<axis xyz="-1.0 0.0 0.0"/>
		<parent link="ARWristFT_Link"/>
		<child link="GRF2ProximalSegment_Link"/>
		<limit effort="400.0" lower="-0.05235987755982988" upper="0.7330382858376184" velocity="3.1415926"/>
	</joint>
	<link name="GRF2ProximalSegment_Link">
		<inertial>
			<origin rpy="0.0 0.0 0.0" xyz="-0.0020799169088264002 0.0003869287332191591 0.021596022319208884"/>
			<mass value="0.054303017004370104"/>
			<inertia ixx="3.088548027794202e-05" ixy="-1.4302000000000137e-08" ixz="-2.683200000000028e-07" iyy="3.374948027794203e-05" iyz="6.182299999999967e-07" izz="2.0034380277942035e-05"/>
		</inertial>
		<visual name="GRF2ProximalSegment_Visual">
			<origin rpy="0.0 0.0 0.0" xyz="0.0 0.0 0.0"/>
			<geometry>
				<mesh filename="../meshes/F_ProximalSegment_Frame.stl"/>
			</geometry>
			<material name="">
				<color rgba="0.94118 0.67451 0.11765 1.0"/>
			</material>
		</visual>
		<collision name="GRF2ProximalSegment_Collision">
			<origin rpy="0.000111 0.075418 -1.569794" xyz="0.00013 -0.002054 0.02649"/>
			<geometry>
				<box size="0.030218173173127905 0.034882865322953094 0.0747403673565936"/>
			</geometry>
		</collision>
	</link>
	<joint name="GRF2TopSegment" type="fixed">
		<origin rpy="0.0 0.0 0.0" xyz="0.0 0.0 0.0"/>
		<axis xyz="-1.0 0.0 0.0"/>
		<parent link="GRF2Gear_Link"/>
		<child link="GRF2TopSegment_Link"/>
		<limit effort="400.0" lower="-3.1415926" upper="3.1415926" velocity="3.1415926"/>
	</joint>
	<link name="GRF2TopSegment_Link">
		<inertial>
			<origin rpy="0.0 0.0 0.0" xyz="0.0009346754545048612 0.02600300827216842 -0.013271286346101328"/>
			<mass value="0.04958915985083422"/>
			<inertia ixx="5.1651277429850974e-05" ixy="4.4296000000000057e-07" ixz="-6.034000000000103e-08" iyy="5.0300577429850974e-05" iyz="7.458099999999999e-07" izz="5.3196877429850975e-05"/>
		</inertial>
		<visual name="GRF2TopSegment_Visual">
			<origin rpy="0.0 0.0 0.0" xyz="0.0 0.0 0.0"/>
			<geometry>
				<mesh filename="../meshes/F_TopSegment_Frame.stl"/>
			</geometry>
			<material name="">
				<color rgba="0.94118 0.67451 0.11765 1.0"/>
			</material>
		</visual>
		<collision name="GRF2TopSegment_Collision">
			<origin rpy="3.025162 1.145167 -1.622776" xyz="0.0 0.02387 -0.012657"/>
			<geometry>
				<box size="0.026310870976772916 0.02858935493300371 0.07745781389552309"/>
			</geometry>
		</collision>
	</link>
	<joint name="GRIMU" type="fixed">
		<origin rpy="-1.5708 -0.009708 3.141593" xyz="0.001862 -0.026119 0.056625"/>
		<parent link="ARWristFT_Link"/>
		<child link="GRIMU_Link"/>
	</joint>
	<link name="GRIMU_Link">
		<inertial>
			<origin rpy="0.0 0.0 0.0" xyz="0.0 0.0 0.0"/>
			<mass value="0.0"/>
			<inertia ixx="1e-05" ixy="0.0" ixz="0.0" iyy="1e-05" iyz="0.0" izz="1e-05"/>
		</inertial>
	</link>
	<joint name="HeadBase" type="fixed">
		<origin rpy="1.5708 -1.570793 1.570796" xyz="0.0 0.0 0.401"/>
		<parent link="BodyYaw_Link"/>
		<child link="HeadBase_Link"/>
	</joint>
	<link name="HeadBase_Link">
		<inertial>
			<origin rpy="0.0 0.0 0.0" xyz="0.06759895988262875 0.0 -0.0005760329571146471"/>
			<mass value="1.44199275293458"/>
			<inertia ixx="0.0017389000000001366" ixy="4.263074194599638e-08" ixz="5.2598000136856475e-08" iyy="0.001487789459964334" iyz="7.061917726905939e-07" izz="0.0013696378900355294"/>
		</inertial>
		<visual name="HeadBase_Visual">
			<origin rpy="0.0 0.0 0.0" xyz="0.0 0.0 0.0"/>
			<geometry>
				<mesh filename="../meshes/Head_Base.stl"/>
			</geometry>
			<material name="">
				<color rgba="0.69804 0.69804 0.69804 1.0"/>
			</material>
		</visual>
		<visual name="HeadActC_Visual">
			<origin rpy="-1.5708 0.0 0.0" xyz="0.15925 0.0 0.0"/>
			<geometry>
				<mesh filename="../meshes/Head_ActC.stl"/>
			</geometry>
			<material name="">
				<color rgba="0.89804 0.91765 0.92941 1.0"/>
			</material>
		</visual>
		<visual name="HeadActL_Visual">
			<origin rpy="-3.141585 0.0 1.5708" xyz="0.15925 0.0 0.0"/>
			<geometry>
				<mesh filename="../meshes/Head_ActL.stl"/>
			</geometry>
			<material name="">
				<color rgba="0.69804 0.69804 0.69804 1.0"/>
			</material>
		</visual>
		<visual name="HeadActR_Visual">
			<origin rpy="0.0 0.0 -1.5708" xyz="0.15925 0.0 0.0"/>
			<geometry>
				<mesh filename="../meshes/Head_ActR.stl"/>
			</geometry>
			<material name="">
				<color rgba="0.69804 0.69804 0.69804 1.0"/>
			</material>
		</visual>
		<collision name="HeadBase_Link_Collision">
			<origin rpy="1.489582 -0.057445 1.569603" xyz="0.089282 0.003564 -0.023422"/>
			<geometry>
				<box size="0.15116204744210632 0.15949007075757243 0.18968096600451853"/>
			</geometry>
		</collision>
	</link>
	<joint name="HeadPitch" type="revolute">
		<origin rpy="0.0 0.0 -1.5708" xyz="0.15925 0.0 0.0"/>
		<axis xyz="1.0 0.0 0.0"/>
		<parent link="HeadBase_Link"/>
		<child link="HeadPitch_Link"/>
		<limit effort="8.2" lower="-0.3" upper="0.35" velocity="4.8"/>
	</joint>
	<link name="HeadPitch_Link">
		<inertial>
			<origin rpy="0.0 0.0 0.0" xyz="0.0 0.0 0.00296950883117566"/>
			<mass value="0.0135306815484183"/>
			<inertia ixx="1.0900469792997046e-05" ixy="-1.983276674419689e-12" ixz="2.9229038977620623e-12" iyy="1.1777940400612256e-05" iyz="0.0" izz="1.0000000000009494e-05"/>
		</inertial>
		<visual name="HeadPitch_Visual">
			<origin rpy="0.0 0.0 0.0" xyz="0.0 0.0 0.0"/>
			<geometry>
				<mesh filename="../meshes/HeadPitch.stl"/>
			</geometry>
			<material name="">
				<color rgba="0.898039215686275 0.917647058823529 0.929411764705882 1.0"/>
			</material>
		</visual>
	</link>
	<joint name="HeadRoll" type="revolute">
		<origin rpy="-1.5708 -1.5708 0.0" xyz="0.0 0.0 0.0"/>
		<axis xyz="-1.0 0.0 0.0"/>
		<parent link="HeadPitch_Link"/>
		<child link="HeadRoll_Link"/>
		<limit effort="8.2" lower="-0.45" upper="0.45" velocity="4.8"/>
	</joint>
	<link name="HeadRoll_Link">
		<inertial>
			<origin rpy="0.0 0.0 0.0" xyz="-0.00844253878850604 0.0 0.00884603238325907"/>
			<mass value="0.109788715391496"/>
			<inertia ixx="1.83994177455821e-05" ixy="5.13405597754959e-11" ixz="-1.07875589146075e-08" iyy="1.359548687449e-05" iyz="-9.3011670884998e-10" izz="1.39946184243742e-05"/>
		</inertial>
		<visual name="HeadRoll_Visual">
			<origin rpy="0.0 0.0 0.0" xyz="0.0 0.0 0.0"/>
			<geometry>
				<mesh filename="../meshes/HeadRoll.stl"/>
			</geometry>
			<material name="">
				<color rgba="0.898039215686275 0.917647058823529 0.929411764705882 1.0"/>
			</material>
		</visual>
	</link>
	<joint name="HeadYaw" type="revolute">
		<origin rpy="1.5708 -1.5708 0.0" xyz="0.0 0.0 0.0"/>
		<axis xyz="1.0 0.0 0.0"/>
		<parent link="HeadRoll_Link"/>
		<child link="HeadYaw_Link"/>
		<limit effort="4.1" lower="-2.1" upper="2.1" velocity="4.8"/>
	</joint>
	<link name="HeadYaw_Link">
		<inertial>
			<origin rpy="0.0 0.0 0.0" xyz="0.0865202750448954 -0.0440420348532486 -0.00282280741895916"/>
			<mass value="1.46451930762968"/>
			<inertia ixx="0.00400957562211491" ixy="-0.000773636855316844" ixz="-8.24762860917018e-06" iyy="0.00399135489001388" iyz="-9.04346097850664e-06" izz="0.00411109150468807"/>
		</inertial>
		<visual name="HeadYaw_Visual">
			<origin rpy="0.0 0.0 0.0" xyz="0.0 0.0 0.0"/>
			<geometry>
				<mesh filename="../meshes/HeadYaw.stl"/>
			</geometry>
			<material name="">
				<color rgba="0.498039215686275 0.498039215686275 0.498039215686275 1.0"/>
			</material>
		</visual>
		<collision name="HeadYaw_Collision">
			<origin rpy="1.570773 -5.3e-05 2.757791" xyz="0.071982 -0.056676 0.0"/>
			<geometry>
				<box size="0.20200141506883382 0.2099636317811051 0.2599446678014104"/>
			</geometry>
		</collision>
	</link>
	<joint name="IMU_Body" type="fixed">
		<origin rpy="0.0 0.0 0.0" xyz="-0.005 -0.01745 -0.09195"/>
		<parent link="RH5v2_Root_Link"/>
		<child link="IMU_Body_Link"/>
	</joint>
	<link name="IMU_Body_Link">
		<inertial>
			<origin rpy="0.0 0.0 0.0" xyz="0.020181 0.018941 0.0015699"/>
			<mass value="0.093167"/>
			<inertia ixx="1.4618e-05" ixy="-6.5521e-08" ixz="-5.6588e-08" iyy="2.4402e-05" iyz="6.4435e-09" izz="3.4276e-05"/>
		</inertial>
		<visual name="IMU_Body_Visual">
			<origin rpy="0.0 0.0 0.0" xyz="0.0 0.0 0.0"/>
			<geometry>
				<mesh filename="../meshes/IMU_Body.stl"/>
			</geometry>
			<material name="">
				<color rgba="0.69804 0.69804 0.69804 1.0"/>
			</material>
		</visual>
	</link>
	<joint name="IMU_Torso" type="fixed">
		<origin rpy="3e-06 3e-06 -3.14159" xyz="-0.0075 -0.10255 0.19985"/>
		<parent link="BodyYaw_Link"/>
		<child link="IMU_Torso_Link"/>
	</joint>
	<link name="IMU_Torso_Link">
		<inertial>
			<origin rpy="0.0 0.0 0.0" xyz="0.020181 0.018941 0.0015699"/>
			<mass value="0.093167"/>
			<inertia ixx="1.4618e-05" ixy="-6.5519e-08" ixz="-5.6587e-08" iyy="2.4402e-05" iyz="6.4433e-09" izz="3.4276e-05"/>
		</inertial>
		<visual name="IMU_Torso_Visual">
			<origin rpy="0.0 0.0 0.0" xyz="0.0 0.0 0.0"/>
			<geometry>
				<mesh filename="../meshes/IMU_Torso.stl"/>
			</geometry>
			<material name="">
				<color rgba="0.69804 0.69804 0.69804 1.0"/>
			</material>
		</visual>
	</link>
	<link name="RH5v2_Root_Link">
		<inertial>
			<origin rpy="0.0 0.0 0.0" xyz="0.0024605808943312085 0.0005436720090129546 0.013657225497719604"/>
			<mass value="3.8294651011734016"/>
			<inertia ixx="0.017563188359104042" ixy="-4.438195543371645e-07" ixz="-0.001338106333674375" iyy="0.011878434065959306" iyz="-5.316260446147072e-07" izz="0.01783032477493666"/>
		</inertial>
		<visual name="RH5v2_Root_Link_Visual">
			<origin rpy="0.0 0.0 0.0" xyz="0.0 0.0 0.0"/>
			<geometry>
				<mesh filename="../meshes/RH5v2_Root_Link.stl"/>
			</geometry>
			<material name="">
				<color rgba="0.89804 0.91765 0.92941 1.0"/>
			</material>
		</visual>
		<collision name="RH5v2_Root_Link_Collision">
			<origin rpy="0.0 0.0 0.0" xyz="0.0 0.0 0.0"/>
			<geometry>
				<mesh filename="../meshes/RH5v2_Root_Link_convexhull.obj" scale="1.0 1.0 1.0"/>
			</geometry>
		</collision>
		<visual name="BodyRoot_Link_Visual">
			<origin rpy="0.0 0.0 -1.5708" xyz="0.0 0.0 0.016"/>
			<geometry>
				<mesh filename="../meshes/Body_Root_Link.stl"/>
			</geometry>
			<material name="">
				<color rgba="1.0 1.0 1.0 1.0"/>
			</material>
		</visual>
		<visual name="BodyBL1_Visual">
			<origin rpy="0.24177 0.0 3.141585" xyz="-0.089827 0.02 -0.194"/>
			<geometry>
				<mesh filename="../meshes/Body_BL1.stl"/>
			</geometry>
			<material name="">
				<color rgba="0.64706 0.61961 0.58824 1.0"/>
			</material>
		</visual>
		<visual name="BodyBL2_Visual">
			<origin rpy="0.241782 0.010038 -3.139125" xyz="-0.089827 0.02 -0.194"/>
			<geometry>
				<mesh filename="../meshes/Body_BL2.stl"/>
			</geometry>
			<material name="">
				<color rgba="0.61961 0.40784 0.2 1.0"/>
			</material>
		</visual>
		<visual name="BodyActL_Visual">
			<origin rpy="0.241782 0.010038 -3.139125" xyz="-0.092308 0.077456 0.038998"/>
			<geometry>
				<mesh filename="../meshes/Body_ActL.stl"/>
			</geometry>
			<material name="">
				<color rgba="0.69804 0.69804 0.69804 1.0"/>
			</material>
		</visual>
		<visual name="BodyBR1_Visual">
			<origin rpy="-0.24177 0.0 3.141585" xyz="-0.089827 -0.02 -0.194"/>
			<geometry>
				<mesh filename="../meshes/Body_BR1.stl"/>
			</geometry>
			<material name="">
				<color rgba="0.64706 0.61961 0.58824 1.0"/>
			</material>
		</visual>
		<visual name="BodyBR2_Visual">
			<origin rpy="-0.241782 0.010038 3.13911" xyz="-0.089827 -0.02 -0.194"/>
			<geometry>
				<mesh filename="../meshes/Body_BR2.stl"/>
			</geometry>
			<material name="">
				<color rgba="0.64706 0.61961 0.58824 1.0"/>
			</material>
		</visual>
		<visual name="BodyActR_Visual">
			<origin rpy="-0.241782 0.010038 3.13911" xyz="-0.092309 -0.077456 0.038998"/>
			<geometry>
				<mesh filename="../meshes/Body_ActR.stl"/>
			</geometry>
			<material name="">
				<color rgba="0.69804 0.69804 0.69804 1.0"/>
			</material>
		</visual>
	</link>
	<joint name="Stereo_Camera_Head" type="fixed">
		<origin rpy="-3.141496 -1.5707 -1.570796" xyz="0.069 -0.1035 -0.031499"/>
		<parent link="HeadYaw_Link"/>
		<child link="Stereo_Camera_Head_Link"/>
	</joint>
	<link name="Stereo_Camera_Head_Link">
		<inertial>
			<origin rpy="0.0 0.0 0.0" xyz="0.02429 0.0 0.009299"/>
			<mass value="0.16394274956965307"/>
			<inertia ixx="0.00021315559509522546" ixy="8.028068239105281e-10" ixz="1.8189970232574128e-08" iyy="0.00021456968378314532" iyz="2.481963350513344e-06" izz="1.5494393629639505e-05"/>
		</inertial>
		<visual name="Stereo_Camera_Head_Visual">
			<origin rpy="0.785398 -1.57066 0.785398" xyz="0.0 0.0 0.0"/>
			<geometry>
				<mesh filename="../meshes/Stereo_Camera_Head.stl"/>
			</geometry>
			<material name="">
				<color rgba="0.698039215686274 0.698039215686274 0.698039215686274 1.0"/>
			</material>
		</visual>
	</link>
	<joint name="Structure_Sensor" type="fixed">
		<origin rpy="-1.919866 9.2e-05 -1.570833" xyz="0.120411 0.038251 0.36839"/>
		<parent link="BodyYaw_Link"/>
		<child link="Structure_Sensor_Link"/>
	</joint>
	<link name="Structure_Sensor_Link">
		<inertial>
			<origin rpy="0.0 0.0 0.0" xyz="0.038622 0.0 -0.005631"/>
			<mass value="0.35771000000000003"/>
			<inertia ixx="3.9054002146696363e-05" ixy="2.7546331115970395e-08" ixz="6.539800799468631e-07" iyy="0.0003796399978528181" iyz="7.024737852269282e-10" izz="0.0003707500000004858"/>
		</inertial>
		<visual name="Structure_Sensor_Visual">
			<origin rpy="-3.141593 0.0 1.5707" xyz="0.0765 0.0 0.0"/>
			<geometry>
				<mesh filename="../meshes/Structure_Sensor_Torso.stl"/>
			</geometry>
			<material name="">
				<color rgba="0.69804 0.69804 0.69804 1.0"/>
			</material>
		</visual>
		<collision name="Structure_Sensor_Collision">
			<origin rpy="1.570797 0.0 -1.570893" xyz="0.038262 0.0 -0.004648"/>
			<geometry>
				<box size="0.028000000898483875 0.029504660516651193 0.11954025808869992"/>
			</geometry>
		</collision>
	</link>
	<joint name="platform" type="fixed">
		<origin rpy="-1.570801 1.309 -1.5708" xyz="0.025 -0.085744 -0.09458"/>
		<parent link="RH5v2_Root_Link"/>
		<child link="platform_Link"/>
	</joint>
	<link name="platform_Link">
		<inertial>
			<origin rpy="0.0 0.0 0.0" xyz="0.60163 0.24997 -0.2825"/>
			<mass value="98.726"/>
			<inertia ixx="1.4402" ixy="0.1287" ixz="0.044177" iyy="0.99436" iyz="0.011837" izz="0.83359"/>
		</inertial>
		<visual name="platform_Visual">
			<origin rpy="0.0 0.0 0.0" xyz="0.0 0.0 0.0"/>
			<geometry>
				<mesh filename="../meshes/base_link.stl"/>
			</geometry>
			<material name="">
				<color rgba="0.75294 0.75294 0.75294 1.0"/>
			</material>
		</visual>
		<collision name="platform_Collision">
			<origin rpy="0.0 0.0 0.0" xyz="0.0 0.0 0.0"/>
			<geometry>
				<mesh filename="../meshes/base_link_convexhull.obj" scale="1.0 1.0 1.0"/>
			</geometry>
		</collision>
	</link>
</robot>
